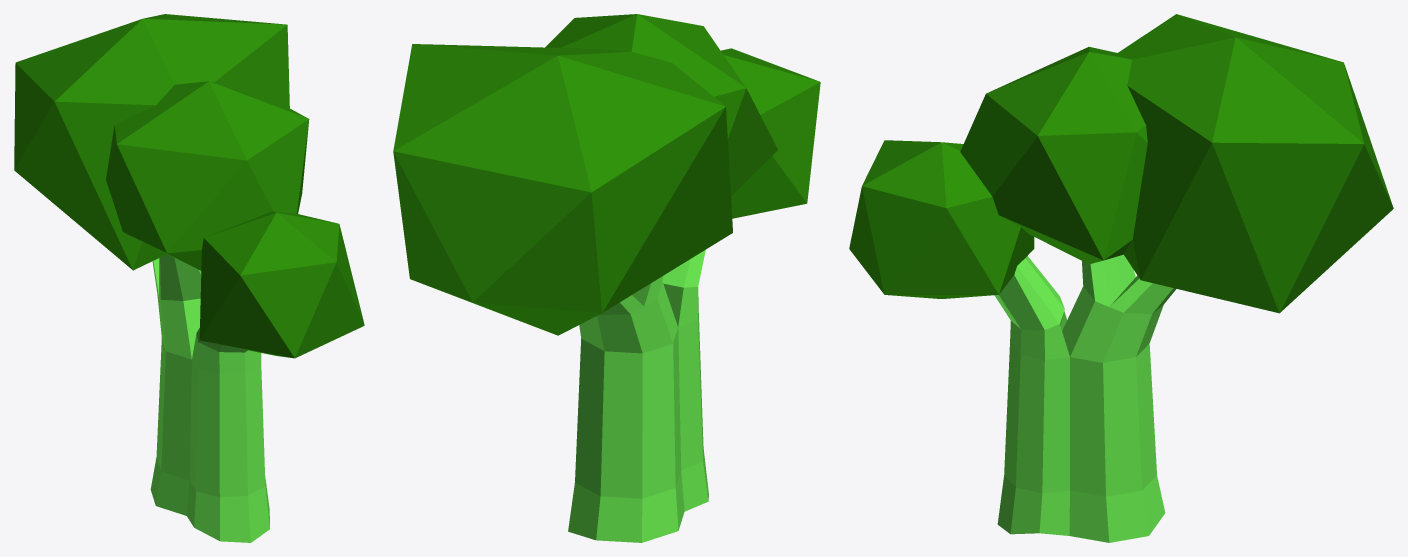
File: broccoli01.gltf
3 views of the same model, side by side, from view 1: azimuth 30°, elevation 25°; view 2: azimuth 150°, elevation 25°; view 3: azimuth 270°, elevation 25° (orthographic). The views are drawn at different scales.
Visible parts, largest first — view 1: Cylinder.001; view 2: Cylinder.001; view 3: Cylinder.001.
Boxes of the visible parts, x1,y1,x2,y2 form: Cylinder.001: (14,14,364,542); Cylinder.001: (393,14,820,542); Cylinder.001: (849,14,1393,542).
Size of the model in its own units: 0.1045 by 0.1781 by 0.1803.
1 material, 1 textured.
